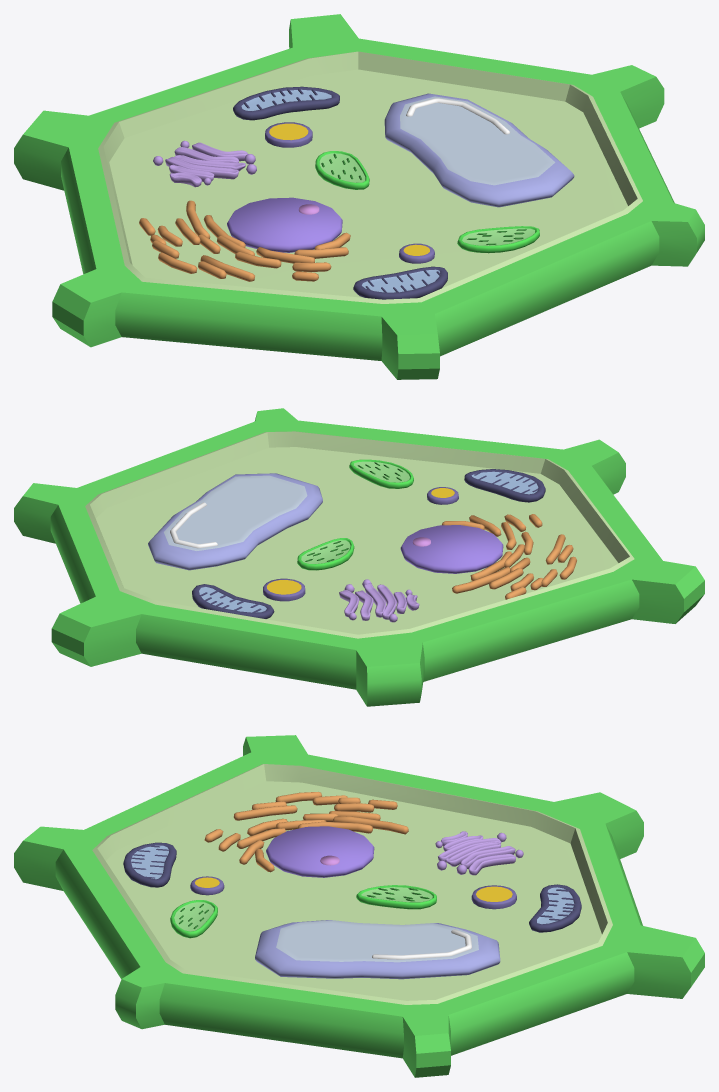
Rendered from BioWorkspace.gltf.
The picture shows the model from 3 angles, top to bottom: view 1: azimuth 30°, elevation 25°; view 2: azimuth 150°, elevation 25°; view 3: azimuth 270°, elevation 25°; orthographic projection. The views are drawn at different scales.
Visible parts, largest first — view 1: Membrane, CellWall, Plane004_1, RE, Plane004, Plane001, Sphere003, Mitochondria004, Mitochondria001, Chloroplast, Chloroplast001, Glioksisom (+2 smaller); view 2: Membrane, CellWall, Plane004_1, Plane004, RE, Plane001, Sphere003, Mitochondria004, Mitochondria001, Chloroplast, Chloroplast001, Glioksisom (+2 smaller); view 3: Membrane, CellWall, Plane004_1, RE, Plane004, Plane001, Sphere003, Mitochondria004, Mitochondria001, Chloroplast, Chloroplast001, Glioksisom (+3 smaller).
Boxes of the visible parts, x1,y1,x2,y2 form: Membrane: (98,51,642,303); CellWall: (14,14,704,379); Plane004_1: (400,96,555,185); RE: (139,200,350,281); Plane004: (384,93,574,207); Plane001: (227,197,342,252); Sphere003: (153,140,256,187); Mitochondria004: (233,86,447,299); Mitochondria001: (241,89,439,292); Chloroplast: (319,153,534,245); Chloroplast001: (315,151,539,253); Glioksisom: (265,122,434,263); Membrane: (85,431,634,638); CellWall: (14,408,704,706); Plane004_1: (164,475,307,550); Plane004: (148,473,322,570); RE: (442,514,576,599); Plane001: (400,525,503,573); Sphere003: (339,579,419,622); Mitochondria004: (192,469,545,618); Mitochondria001: (199,471,538,612); Chloroplast: (301,461,409,563); Chloroplast001: (297,459,413,570); Glioksisom: (263,487,458,601); Membrane: (92,764,612,1004); CellWall: (14,735,704,1077); Plane004_1: (276,920,478,962); RE: (204,792,408,872); Plane004: (255,920,500,979); Plane001: (266,826,374,877); Sphere003: (435,831,523,875); Mitochondria004: (123,842,581,932); Mitochondria001: (131,845,574,924); Chloroplast: (174,887,432,931); Chloroplast001: (170,885,436,938); Glioksisom: (190,876,516,909).
Size of the model in its own units: 15.27 by 1.04 by 14.43.
